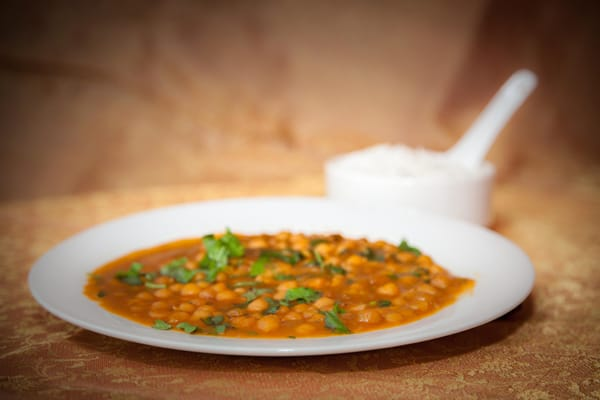salad: (322, 68, 540, 218)
